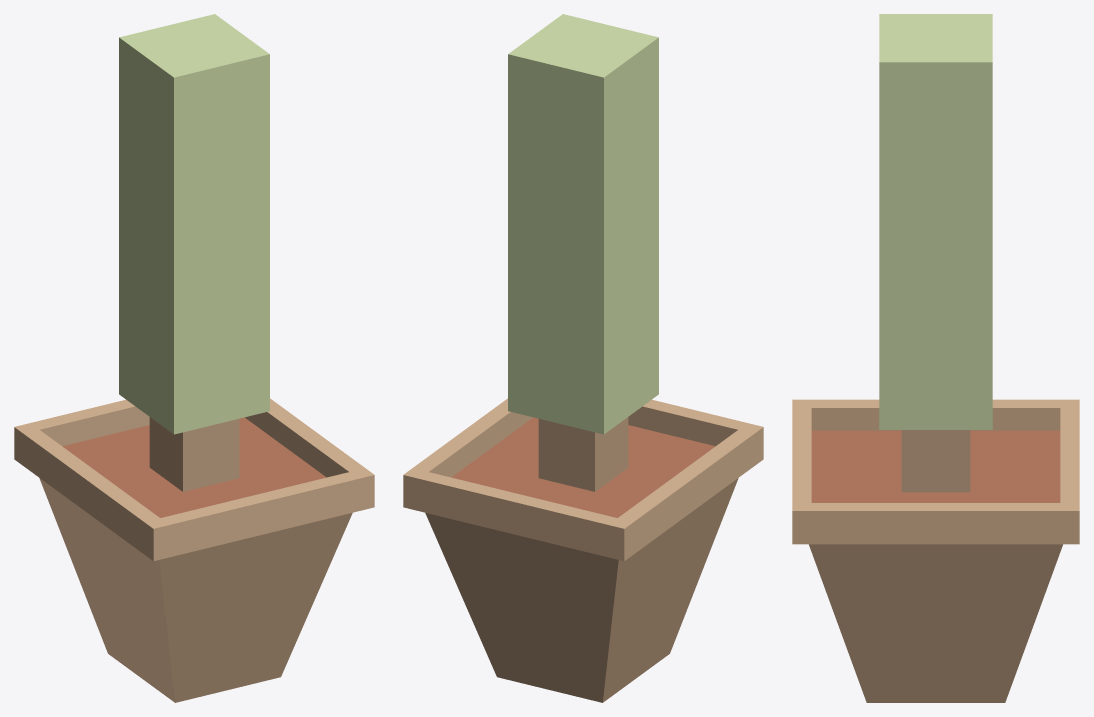
File: plant.fbx
3 renders of one model, left to right at view 1: azimuth 30°, elevation 25°; view 2: azimuth 150°, elevation 25°; view 3: azimuth 270°, elevation 25°, orthographic. The views are drawn at different scales.
Visible parts, largest first — view 1: Cube_27; view 2: Cube_27; view 3: Cube_27.
Part boxes in pixels (<box>): Cube_27: <box>14,14,374,702</box>; Cube_27: <box>403,14,763,702</box>; Cube_27: <box>792,14,1079,702</box>.
Bounding box in the file's own units: 11.79 × 31.55 × 12.86.
